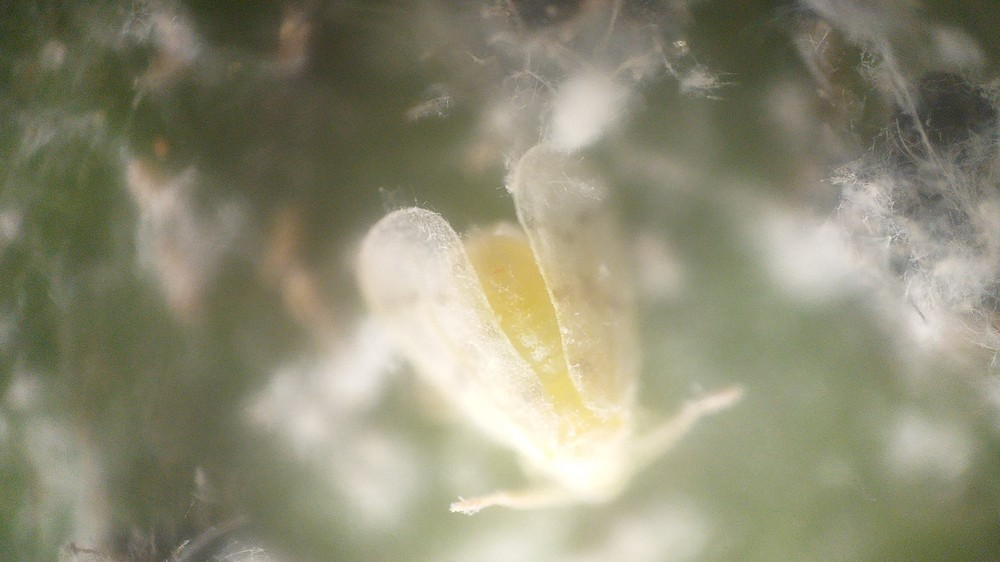Mosca Blanca: (341, 142, 752, 535)
